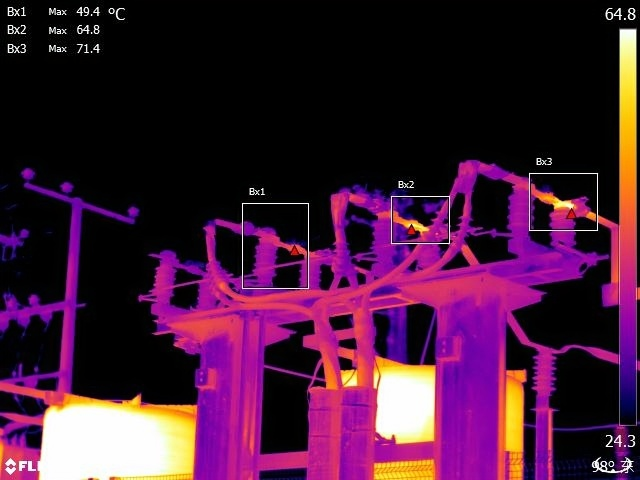post insulator: (248, 234, 284, 284), (503, 190, 535, 235), (369, 222, 399, 268), (545, 206, 578, 246), (297, 251, 327, 290), (193, 275, 221, 312), (149, 266, 177, 302)
switch: (514, 173, 585, 214), (152, 249, 222, 283), (261, 223, 321, 261), (378, 202, 437, 240)
tube: (420, 206, 447, 240), (204, 251, 223, 296), (449, 208, 470, 248), (332, 237, 351, 277)
